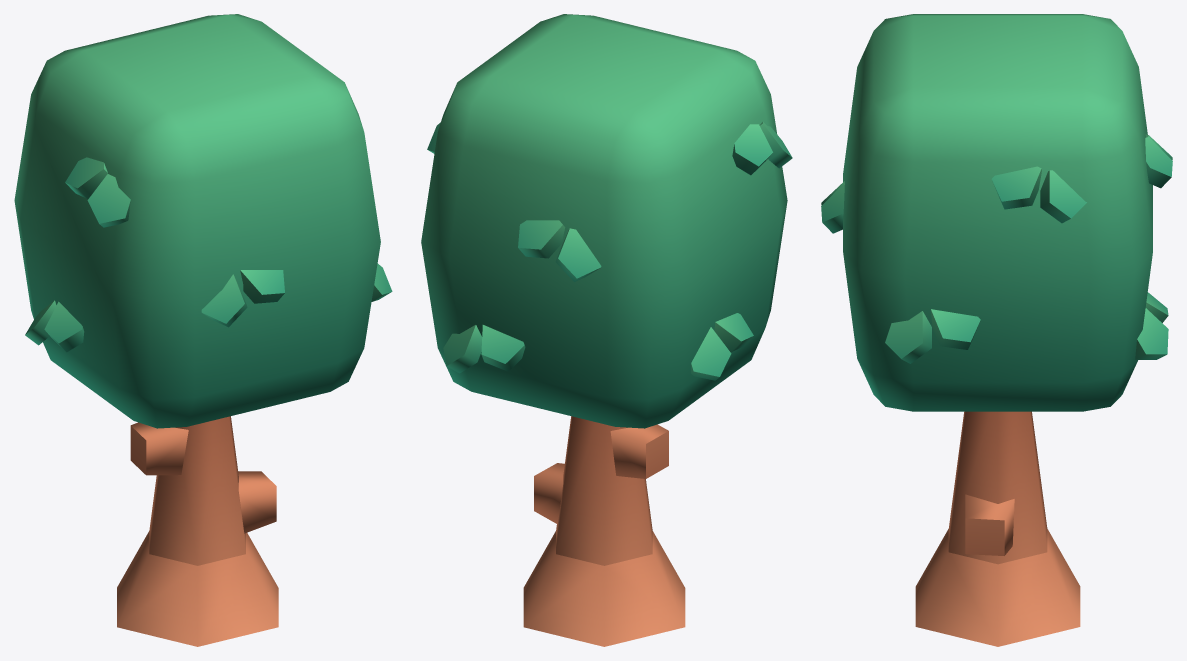
File: tree-puffy.glb
The picture shows the model from 3 angles, left to right: view 1: azimuth 30°, elevation 25°; view 2: azimuth 150°, elevation 25°; view 3: azimuth 270°, elevation 25°; orthographic projection.
Parts seen in each view (by area): view 1: tree; view 2: tree; view 3: tree.
Boxes of the visible parts, left/top/right/bottom form: tree: left=14, top=14, right=392, bottom=646; tree: left=421, top=14, right=792, bottom=646; tree: left=821, top=14, right=1172, bottom=646.
Size of the model in its own units: 2.14 by 3.8 by 2.18.
1 material, 1 textured.
